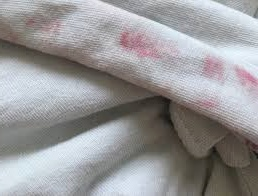lipstick: (118, 38, 179, 58), (15, 21, 60, 35), (202, 58, 228, 81), (235, 65, 257, 88), (186, 101, 223, 112)
